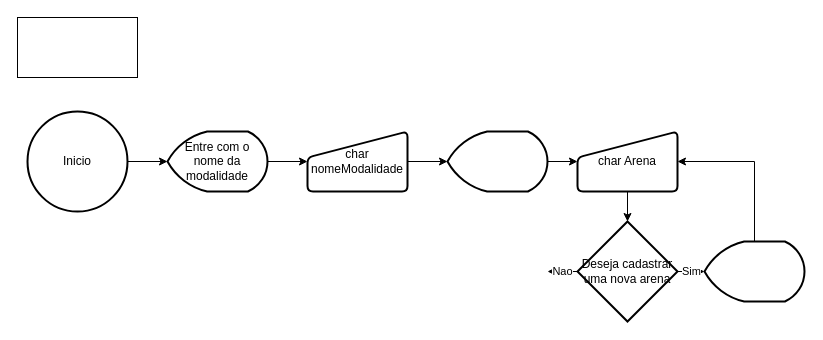
This 823x340 diagram has some shape labels left out. The shapes that lost their labels are listed below. From the top down, each one's centre as x and y in pixels, then its label:
At (x=77, y=47): "Cadastro de Modalidade".
At (x=497, y=161): "Entre com os locais onde a modalidade sera disputada".
At (x=754, y=271): "Entre com uma nova Arena".
